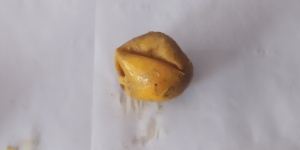BAD: (112, 30, 194, 103)
